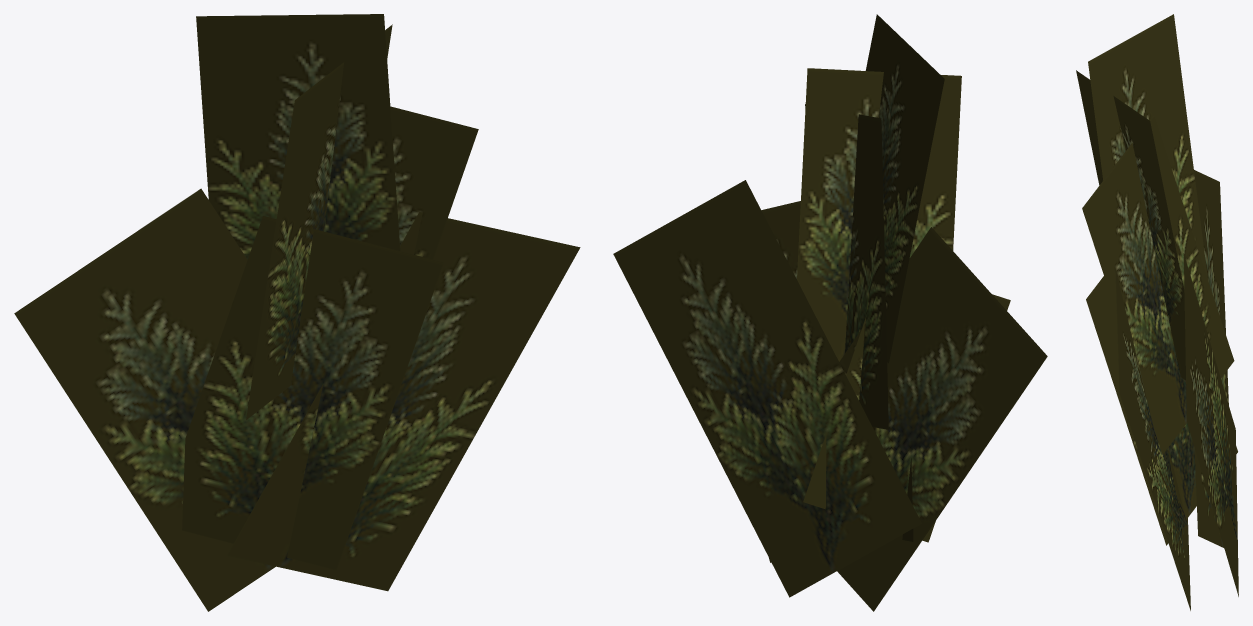
File: plants_k001_a.FBX
3 views of the same model, side by side, from view 1: azimuth 30°, elevation 25°; view 2: azimuth 150°, elevation 25°; view 3: azimuth 270°, elevation 25° (orthographic). The views are drawn at different scales.
Parts seen in each view (by area): view 1: plants_k001_a; view 2: plants_k001_a; view 3: plants_k001_a.
Part boxes in pixels (x1,y1,x2,y2): plants_k001_a: (14,14,580,611); plants_k001_a: (613,14,1047,611); plants_k001_a: (1076,14,1238,610).
Bounding box in the file's own units: 3.52 × 3.97 × 1.1.
1 material, 1 textured.
